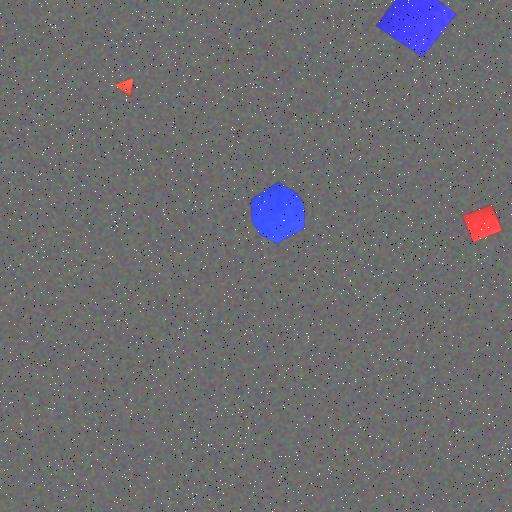BLUE_SQUARE: (375, 0, 457, 58)
RED_SQUARE: (462, 204, 503, 243)
